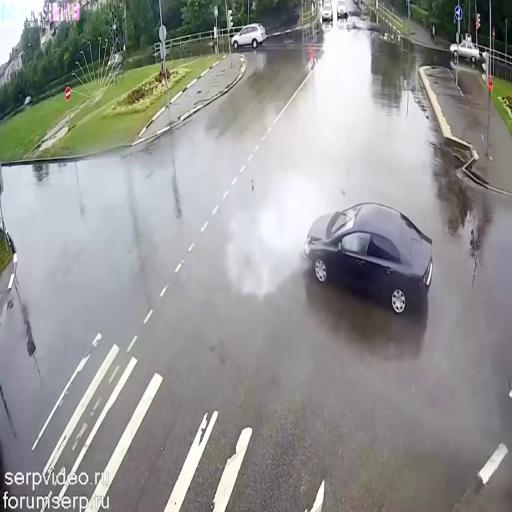小汽车: (304, 187, 436, 316), (232, 20, 266, 52), (452, 34, 484, 64), (321, 2, 333, 26)
